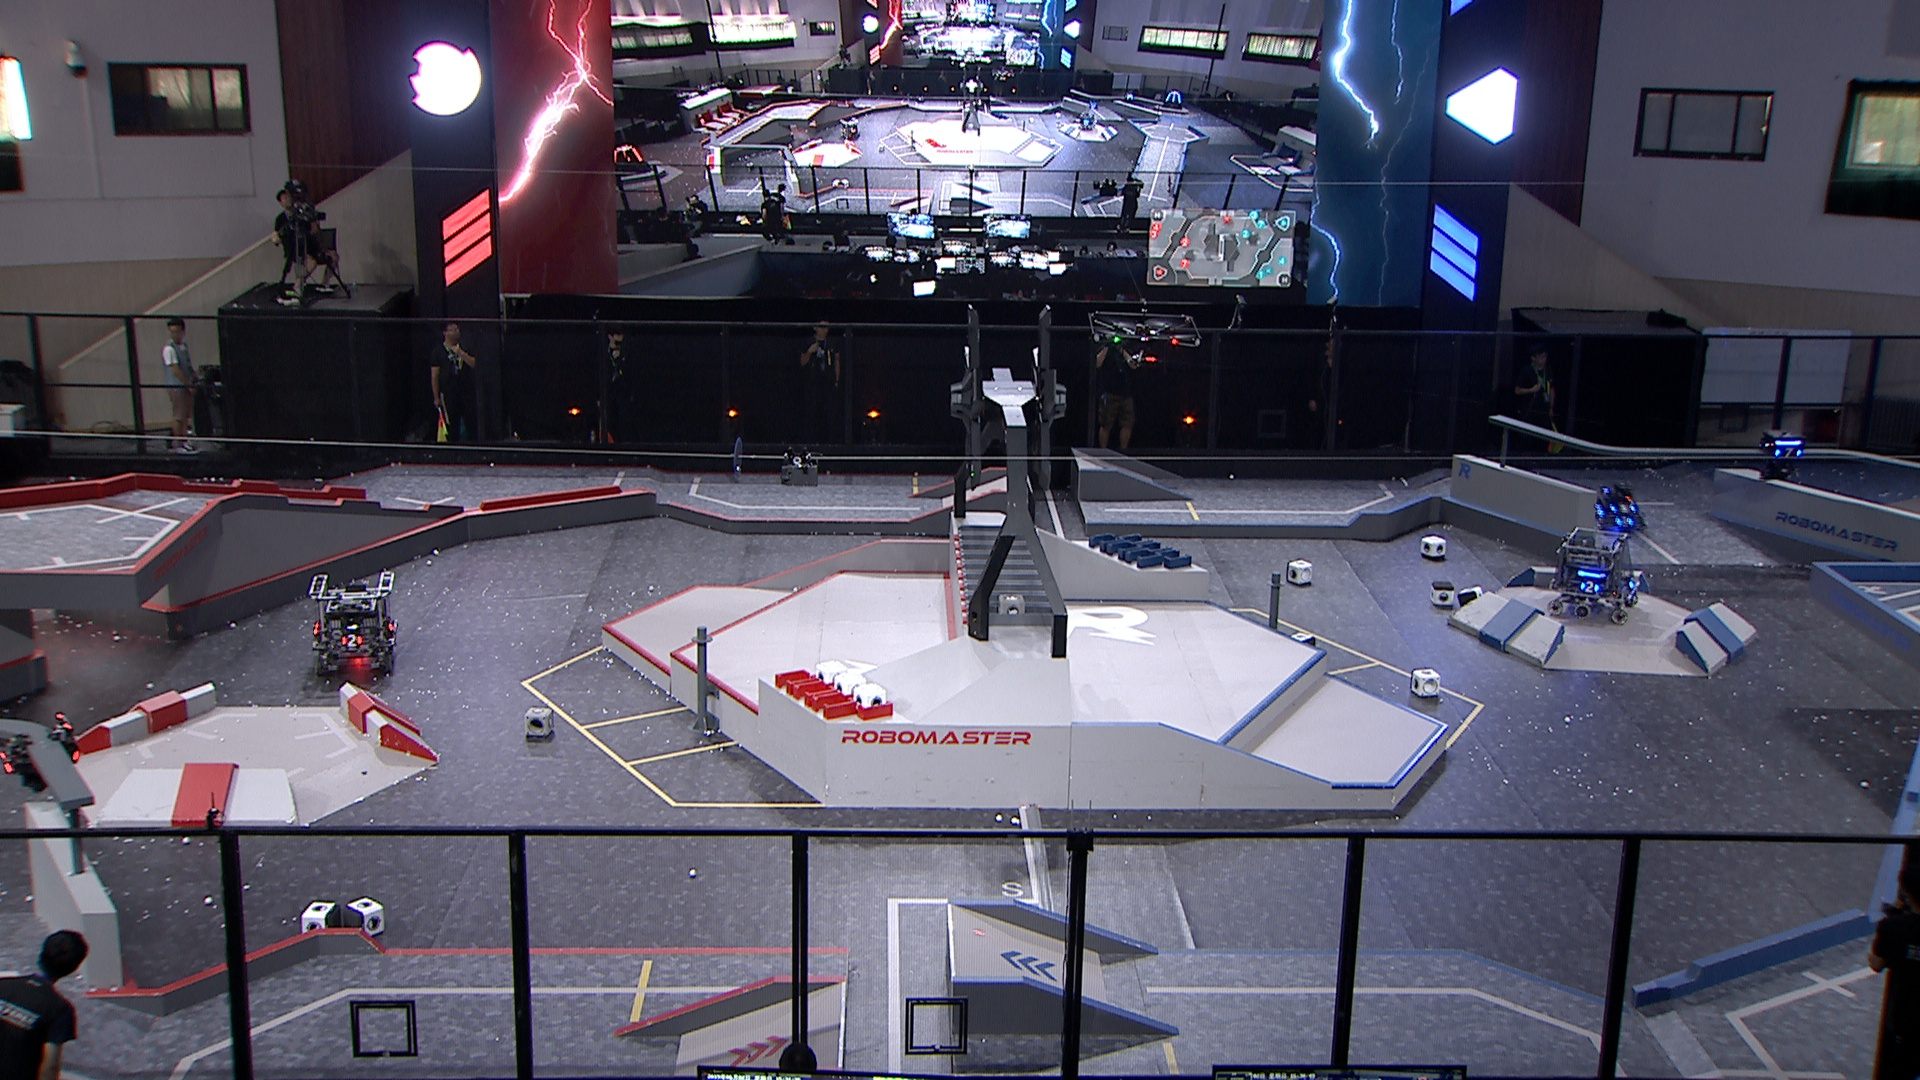armor: (1770, 444, 1803, 462), (1576, 578, 1602, 597), (338, 632, 363, 650), (1609, 501, 1636, 514), (1627, 572, 1640, 593), (1615, 514, 1636, 527)
car: (305, 570, 400, 673), (1548, 524, 1642, 626), (1590, 477, 1650, 533)
ignore: (611, 142, 647, 179), (840, 113, 862, 144), (1073, 111, 1100, 135), (1162, 91, 1185, 111)
watcher: (1750, 425, 1807, 485)
